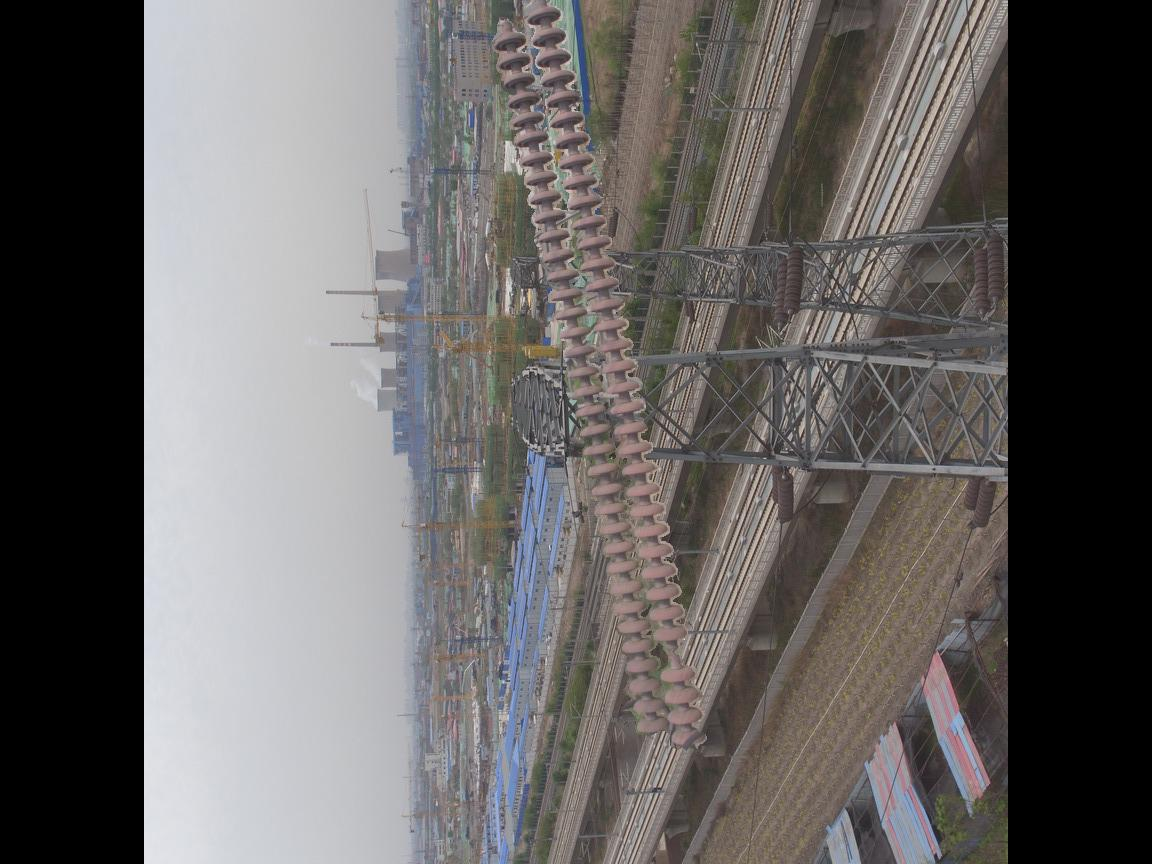insulator: (489, 4, 712, 753), (767, 241, 809, 328), (967, 230, 1008, 316), (960, 473, 1001, 530), (766, 463, 799, 525)
insulator_stringdrop: (648, 623, 699, 686)
